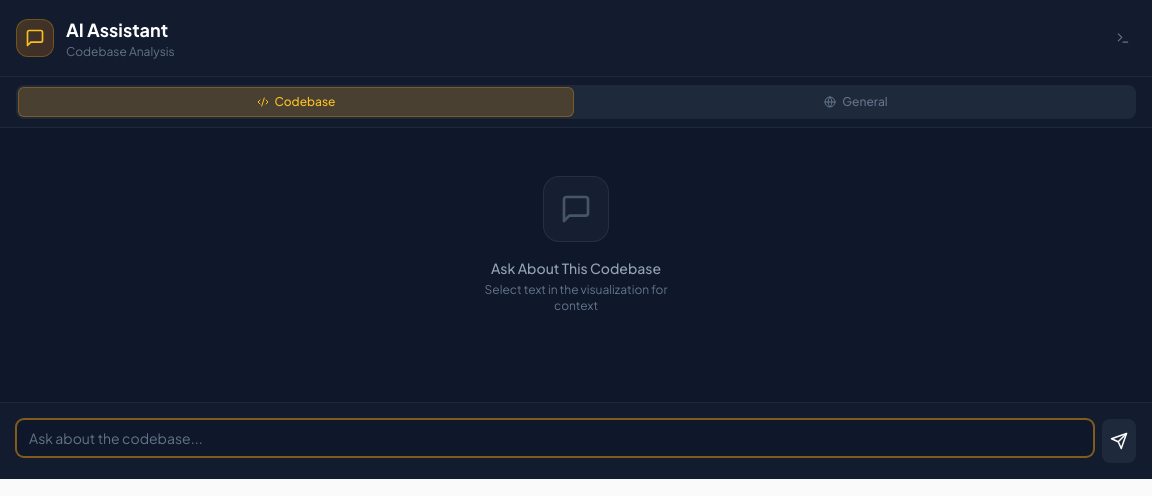
ChatPanel › send/stop button › should enable send button when input has value
Type "test" into the text box with placeholder "Ask about the codebase..." at (555, 438), box [16, 419, 1094, 457]
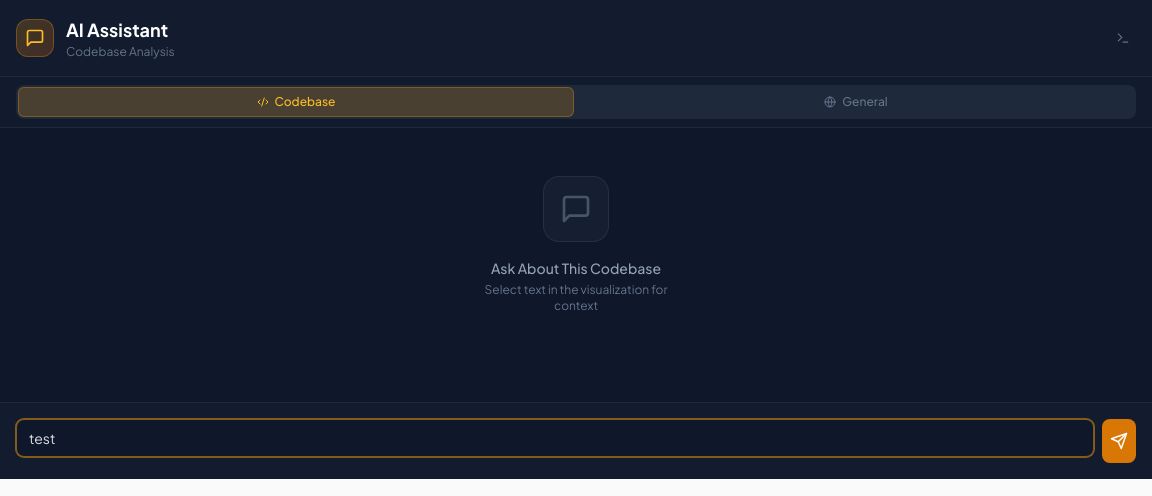
Now the button titled "Send message" is enabled, box [1102, 419, 1136, 463]
